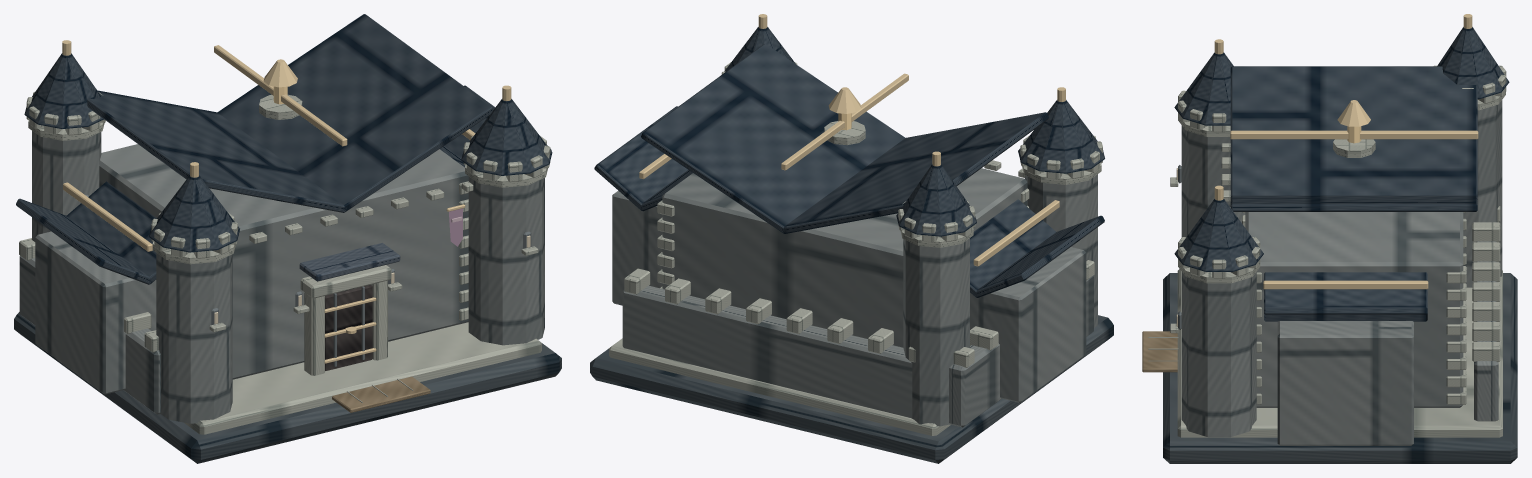
The model's file is Bastion_04.glb.
3 views of the same model, side by side, from view 1: azimuth 30°, elevation 25°; view 2: azimuth 150°, elevation 25°; view 3: azimuth 270°, elevation 25° (orthographic). The views are drawn at different scales.
Visible parts, largest first — view 1: Main keep - ashlar walls.003, Keep/right.003, Western gallery.002, Keep/left.003, Octagonal masonry turret.003, Dressed foundation.003, Rock-and-masonry plinth.003, Octagonal masonry turret.004, Octagonal masonry turret.005, Hand-cut slate turret roof.003, Hand-cut slate turret roof.004, Gallery west/right.002 (+16 smaller); view 2: Main keep - ashlar walls.003, Keep/right.003, Curtain wall.001, Rock-and-masonry plinth.003, Western gallery.002, Keep/left.003, Octagonal masonry turret.005, Dressed foundation.003, Eastern gallery.001, Curtain wall.002, Hand-cut slate turret roof.004, Gallery west/right.002 (+15 smaller); view 3: Keep/left.003, Main keep - ashlar walls.003, Eastern gallery.001, Rock-and-masonry plinth.003, Octagonal masonry turret.003, Dressed foundation.003, Gallery east/left.001, Keep/right.003, Octagonal masonry turret.005, Octagonal masonry turret.004, Hand-cut slate turret roof.003, Hand-cut slate turret roof.005 (+17 smaller).
Boxes of the visible parts, x1,y1,x2,y2 form: Main keep - ashlar walls.003: (99, 144, 468, 379); Keep/right.003: (217, 14, 493, 212); Western gallery.002: (35, 231, 156, 394); Keep/left.003: (87, 90, 346, 212); Octagonal masonry turret.003: (468, 176, 544, 345); Dressed foundation.003: (184, 322, 541, 434); Rock-and-masonry plinth.003: (14, 312, 561, 463); Octagonal masonry turret.004: (156, 253, 232, 423); Octagonal masonry turret.005: (32, 131, 101, 241); Hand-cut slate turret roof.003: (461, 99, 552, 175); Hand-cut slate turret roof.004: (149, 175, 239, 252); Gallery west/right.002: (66, 181, 156, 284); Main keep - ashlar walls.003: (662, 168, 1027, 347); Keep/right.003: (641, 44, 905, 233); Curtain wall.001: (622, 285, 912, 418); Rock-and-masonry plinth.003: (590, 315, 1113, 463); Western gallery.002: (970, 247, 1086, 402); Keep/left.003: (782, 112, 1048, 233); Octagonal masonry turret.005: (903, 238, 969, 426); Dressed foundation.003: (609, 338, 950, 435); Eastern gallery.001: (612, 190, 662, 305); Curtain wall.002: (949, 275, 1093, 427); Hand-cut slate turret roof.004: (1018, 100, 1104, 173); Gallery west/right.002: (970, 199, 1055, 297); Keep/left.003: (1230, 66, 1477, 196); Main keep - ashlar walls.003: (1245, 212, 1463, 407); Eastern gallery.001: (1277, 321, 1413, 445); Rock-and-masonry plinth.003: (1163, 273, 1517, 463); Octagonal masonry turret.003: (1181, 272, 1256, 437); Dressed foundation.003: (1177, 269, 1502, 437); Gallery east/left.001: (1264, 272, 1427, 307); Keep/right.003: (1230, 195, 1477, 211); Octagonal masonry turret.005: (1463, 100, 1502, 287); Octagonal masonry turret.004: (1181, 125, 1245, 237); Hand-cut slate turret roof.003: (1174, 199, 1263, 271); Hand-cut slate turret roof.005: (1437, 27, 1509, 98).
Size of the model in its own units: 13.64 by 8.74 by 10.2.
17 materials, 10 textured.
